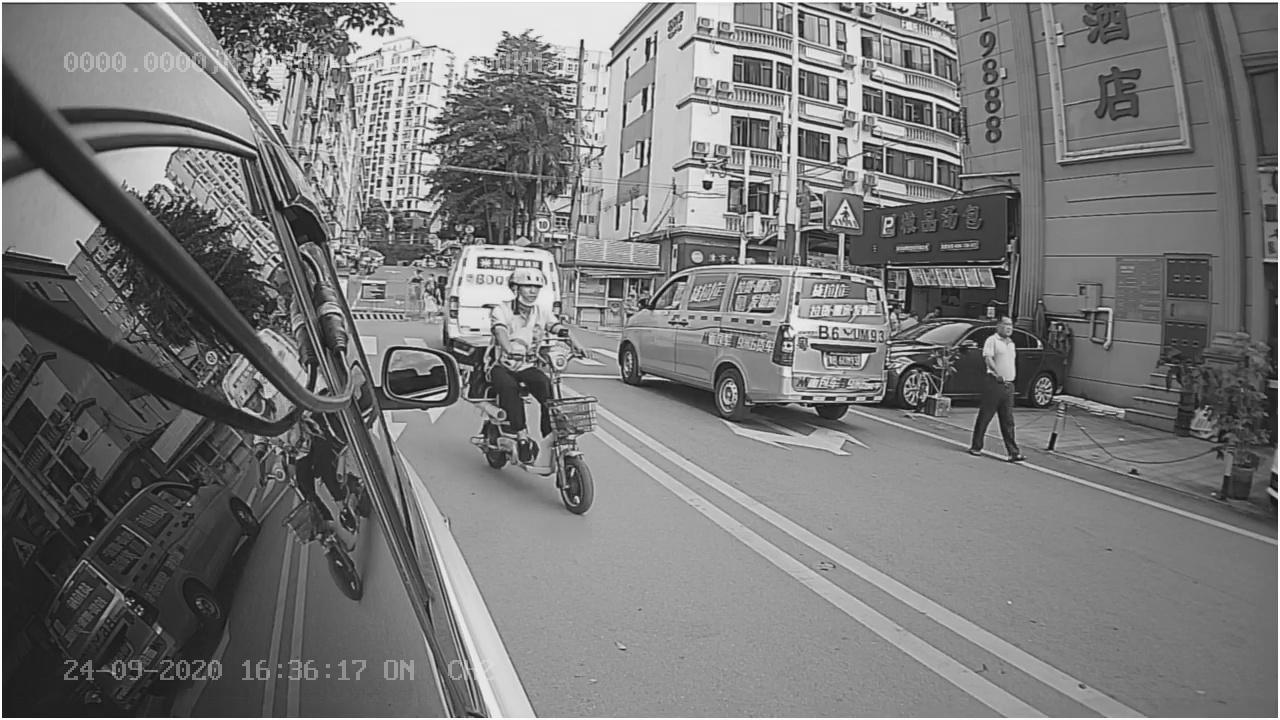person: (949, 302, 1049, 478)
